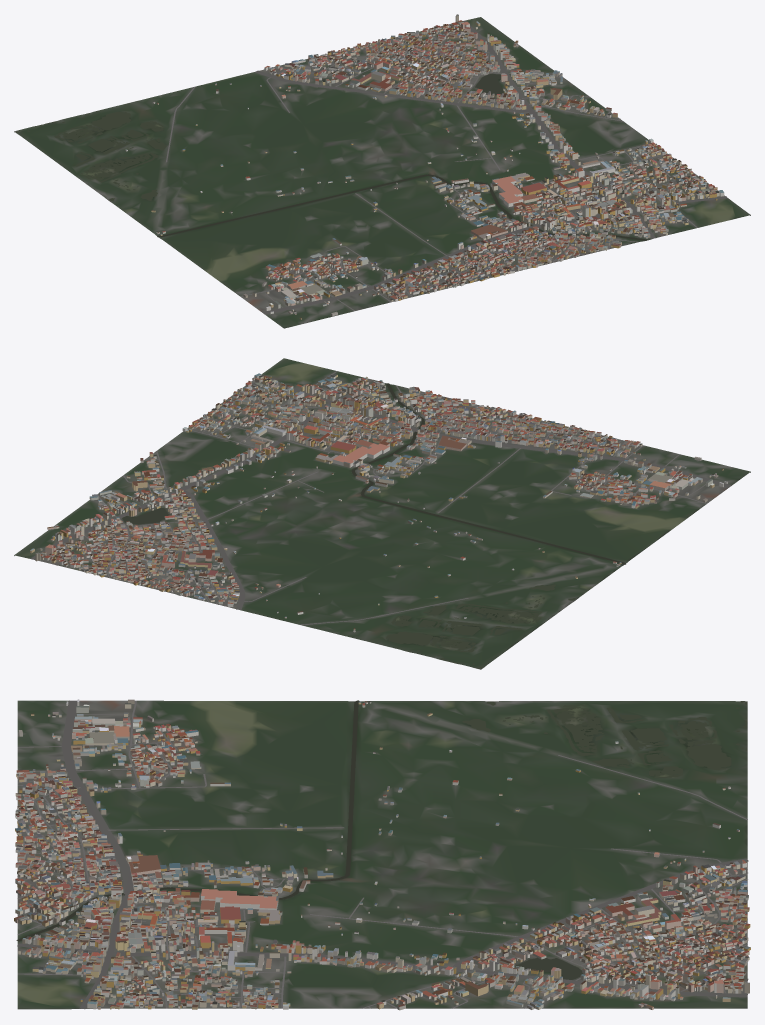
3 renders of one model, top to bottom at view 1: azimuth 30°, elevation 25°; view 2: azimuth 150°, elevation 25°; view 3: azimuth 270°, elevation 25°, orthographic. The views are drawn at different scales.
Visible parts, largest first — view 1: ground, buildings, roads, water; view 2: ground, buildings, roads, water; view 3: ground, buildings, roads, water.
Part boxes in pixels (x1,y1,x2,y2): ground: (14,17,750,328); buildings: (125,14,724,319); roads: (166,20,727,314); water: (15,74,647,240); ground: (14,358,750,669); buildings: (30,373,727,632); roads: (30,371,731,624); water: (122,383,625,668); ground: (17,700,747,1009); buildings: (14,699,750,1010); roads: (17,700,748,1009); water: (16,700,746,979).
Bounding box in the file's own units: 1410 × 31.85 × 1415.
